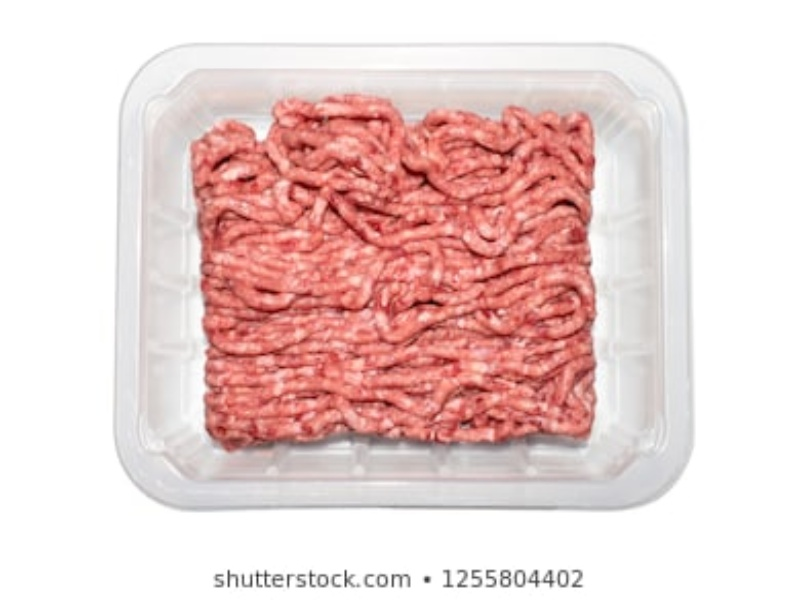plastic-tray: (105, 34, 702, 518)
